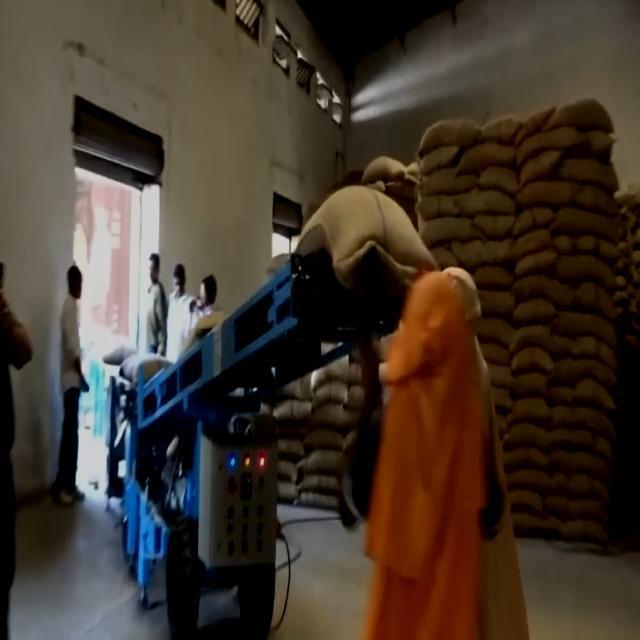gunny_bag: (288, 185, 438, 292)
